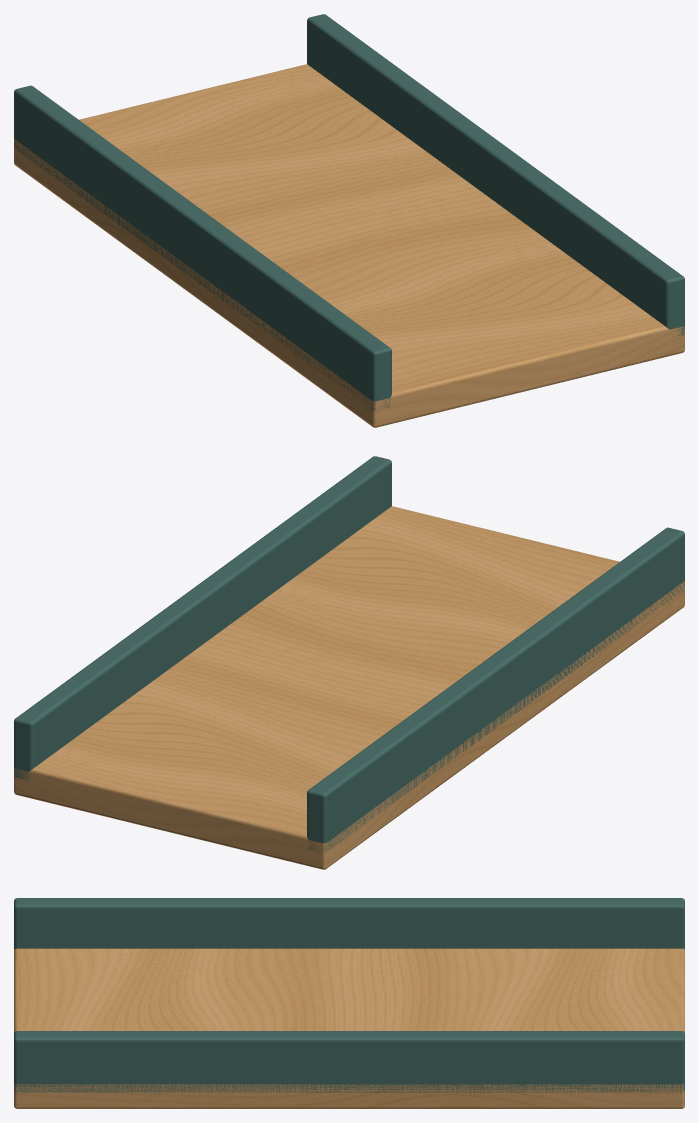
The model's file is leaf.glb.
The picture shows the model from 3 angles, top to bottom: view 1: azimuth 30°, elevation 25°; view 2: azimuth 150°, elevation 25°; view 3: azimuth 270°, elevation 25°; orthographic projection. The views are drawn at different scales.
Visible parts, largest first — view 1: leaf; view 2: leaf; view 3: leaf.
Part boxes in pixels (x1,y1,x2,y2): leaf: (14,14,684,427); leaf: (14,456,684,869); leaf: (14,898,684,1108).
Bounding box in the file's own units: 0.032 × 0.0075 × 0.064.
2 materials, 1 textured.
